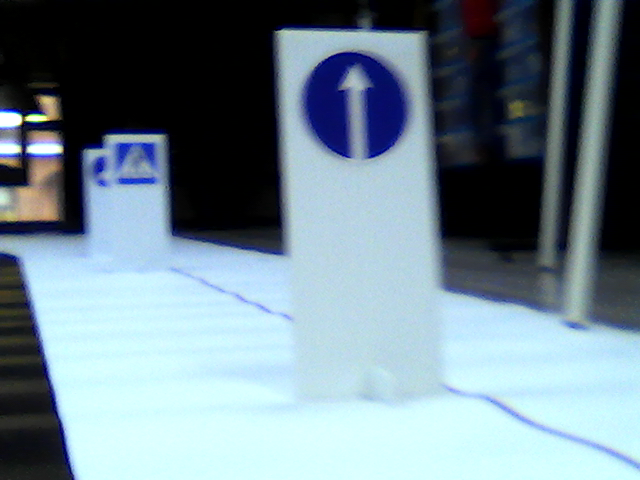forw: (298, 45, 409, 160)
pesh: (114, 140, 159, 185)
